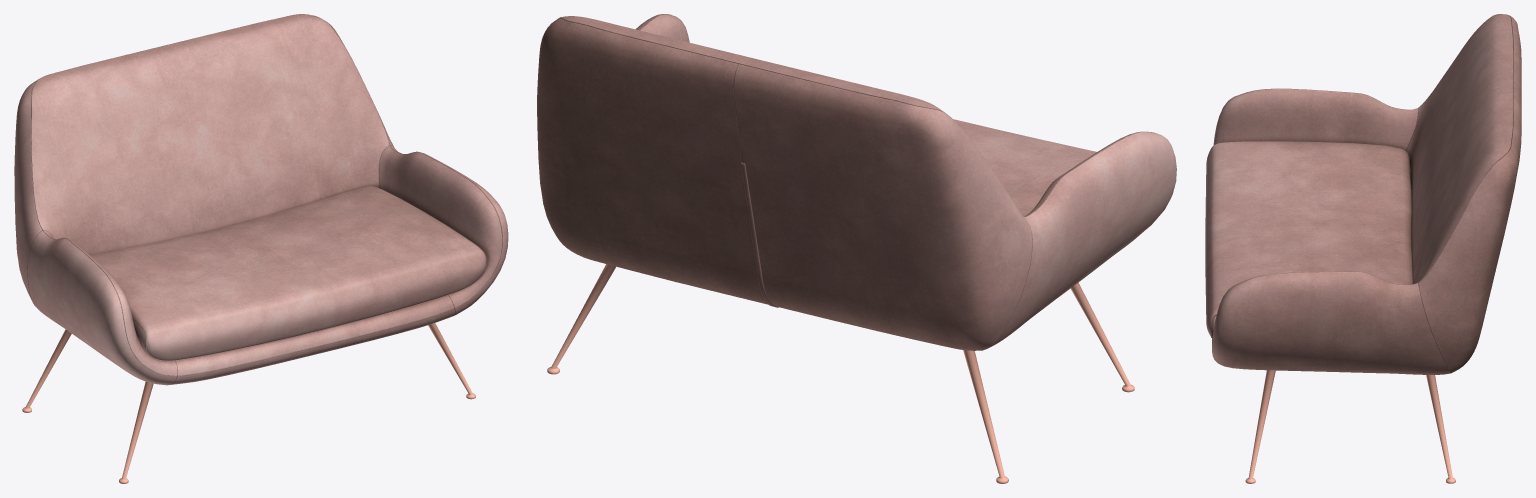
The model's file is moby_2_seater_sofa_vintage_pink_velvet.glb.
3 renders of one model, left to right at view 1: azimuth 30°, elevation 25°; view 2: azimuth 150°, elevation 25°; view 3: azimuth 270°, elevation 25°, orthographic. The views are drawn at different scales.
Parts seen in each view (by area): view 1: VELVET, METAL; view 2: VELVET, METAL; view 3: VELVET, METAL.
Part boxes in pixels (x1,y1,x2,y2): VELVET: [14, 14, 508, 385]; METAL: [22, 323, 475, 483]; VELVET: [537, 14, 1176, 350]; METAL: [547, 264, 1134, 483]; VELVET: [1205, 14, 1521, 374]; METAL: [1245, 370, 1455, 483].
Size of what is drawn, in the model's own units: 122 by 88.75 by 81.39.
3 materials, 2 textured.
